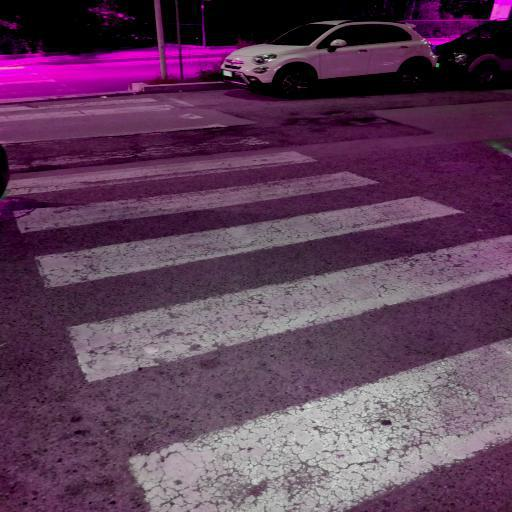crosswalk: (3, 164, 484, 296)
